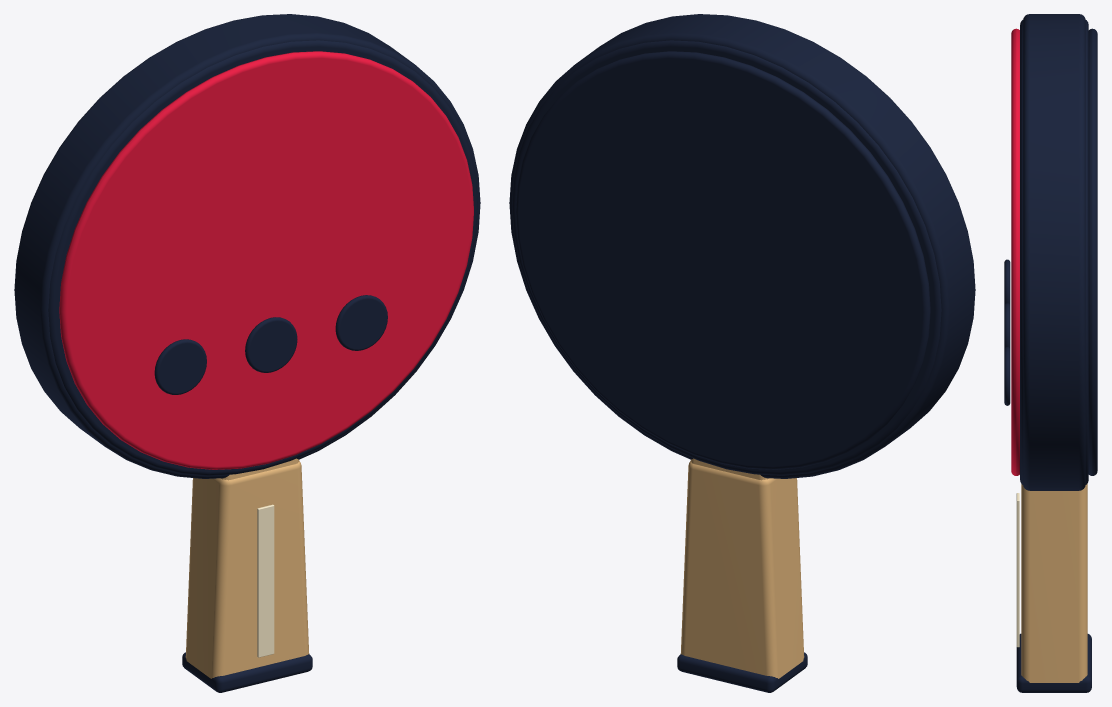
File: TripleServe.fbx
3 renders of one model, left to right at view 1: azimuth 30°, elevation 25°; view 2: azimuth 150°, elevation 25°; view 3: azimuth 270°, elevation 25°, orthographic.
Parts seen in each view (by area): view 1: FrontRubber, OuterRim, WoodHandle, RimLip, HandleInlay, ServePort0.14, ServePort-0.14, ServePort0, HandleButt; view 2: BackRubber, OuterRim, WoodHandle, RimLip, HandleButt; view 3: OuterRim, WoodHandle, BackRubber, FrontRubber, RimLip, HandleButt, HandleInlay, ServePort0.14, ServePort-0.14, ServePort0.
Boxes of the visible parts, x1,y1,x2,y2 form: FrontRubber: (59,51,473,469); OuterRim: (14,14,480,478); WoodHandle: (185,461,309,678); RimLip: (48,40,477,475); HandleInlay: (257,504,274,657); ServePort0.14: (335,295,387,350); ServePort-0.14: (154,339,206,394); ServePort0: (245,317,297,372); HandleButt: (182,652,312,692); BackRubber: (516,51,930,469); OuterRim: (509,14,975,478); WoodHandle: (680,461,804,678); RimLip: (512,40,941,475); HandleButt: (677,652,807,692); OuterRim: (1023,14,1085,490); WoodHandle: (1021,483,1087,682); BackRubber: (1088,28,1097,475); FrontRubber: (1011,28,1019,475); RimLip: (1020,20,1088,484); HandleButt: (1016,633,1091,692); HandleInlay: (1016,493,1019,647); ServePort0.14: (1004,347,1010,405); ServePort-0.14: (1004,259,1010,305); ServePort0: (1004,303,1010,348).
Size of the model in its own units: 68 by 94.65 by 12.63.
